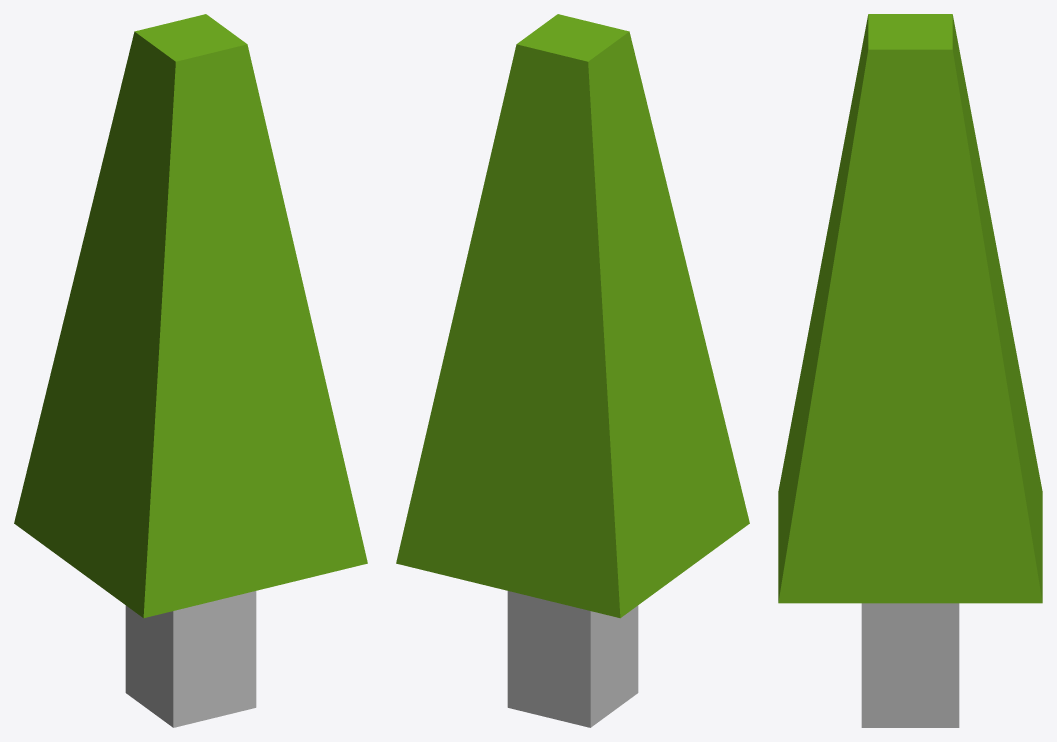
Rendered from tree_1.fbx.
3 views of the same model, side by side, from view 1: azimuth 30°, elevation 25°; view 2: azimuth 150°, elevation 25°; view 3: azimuth 270°, elevation 25° (orthographic).
Parts seen in each view (by area): view 1: Cube.010; view 2: Cube.010; view 3: Cube.010.
Part boxes in pixels (bbox=[...]): Cube.010: bbox=[14, 14, 367, 727]; Cube.010: bbox=[396, 14, 749, 727]; Cube.010: bbox=[778, 14, 1042, 727].
Bounding box in the file's own units: 59.48 × 168 × 59.48.
